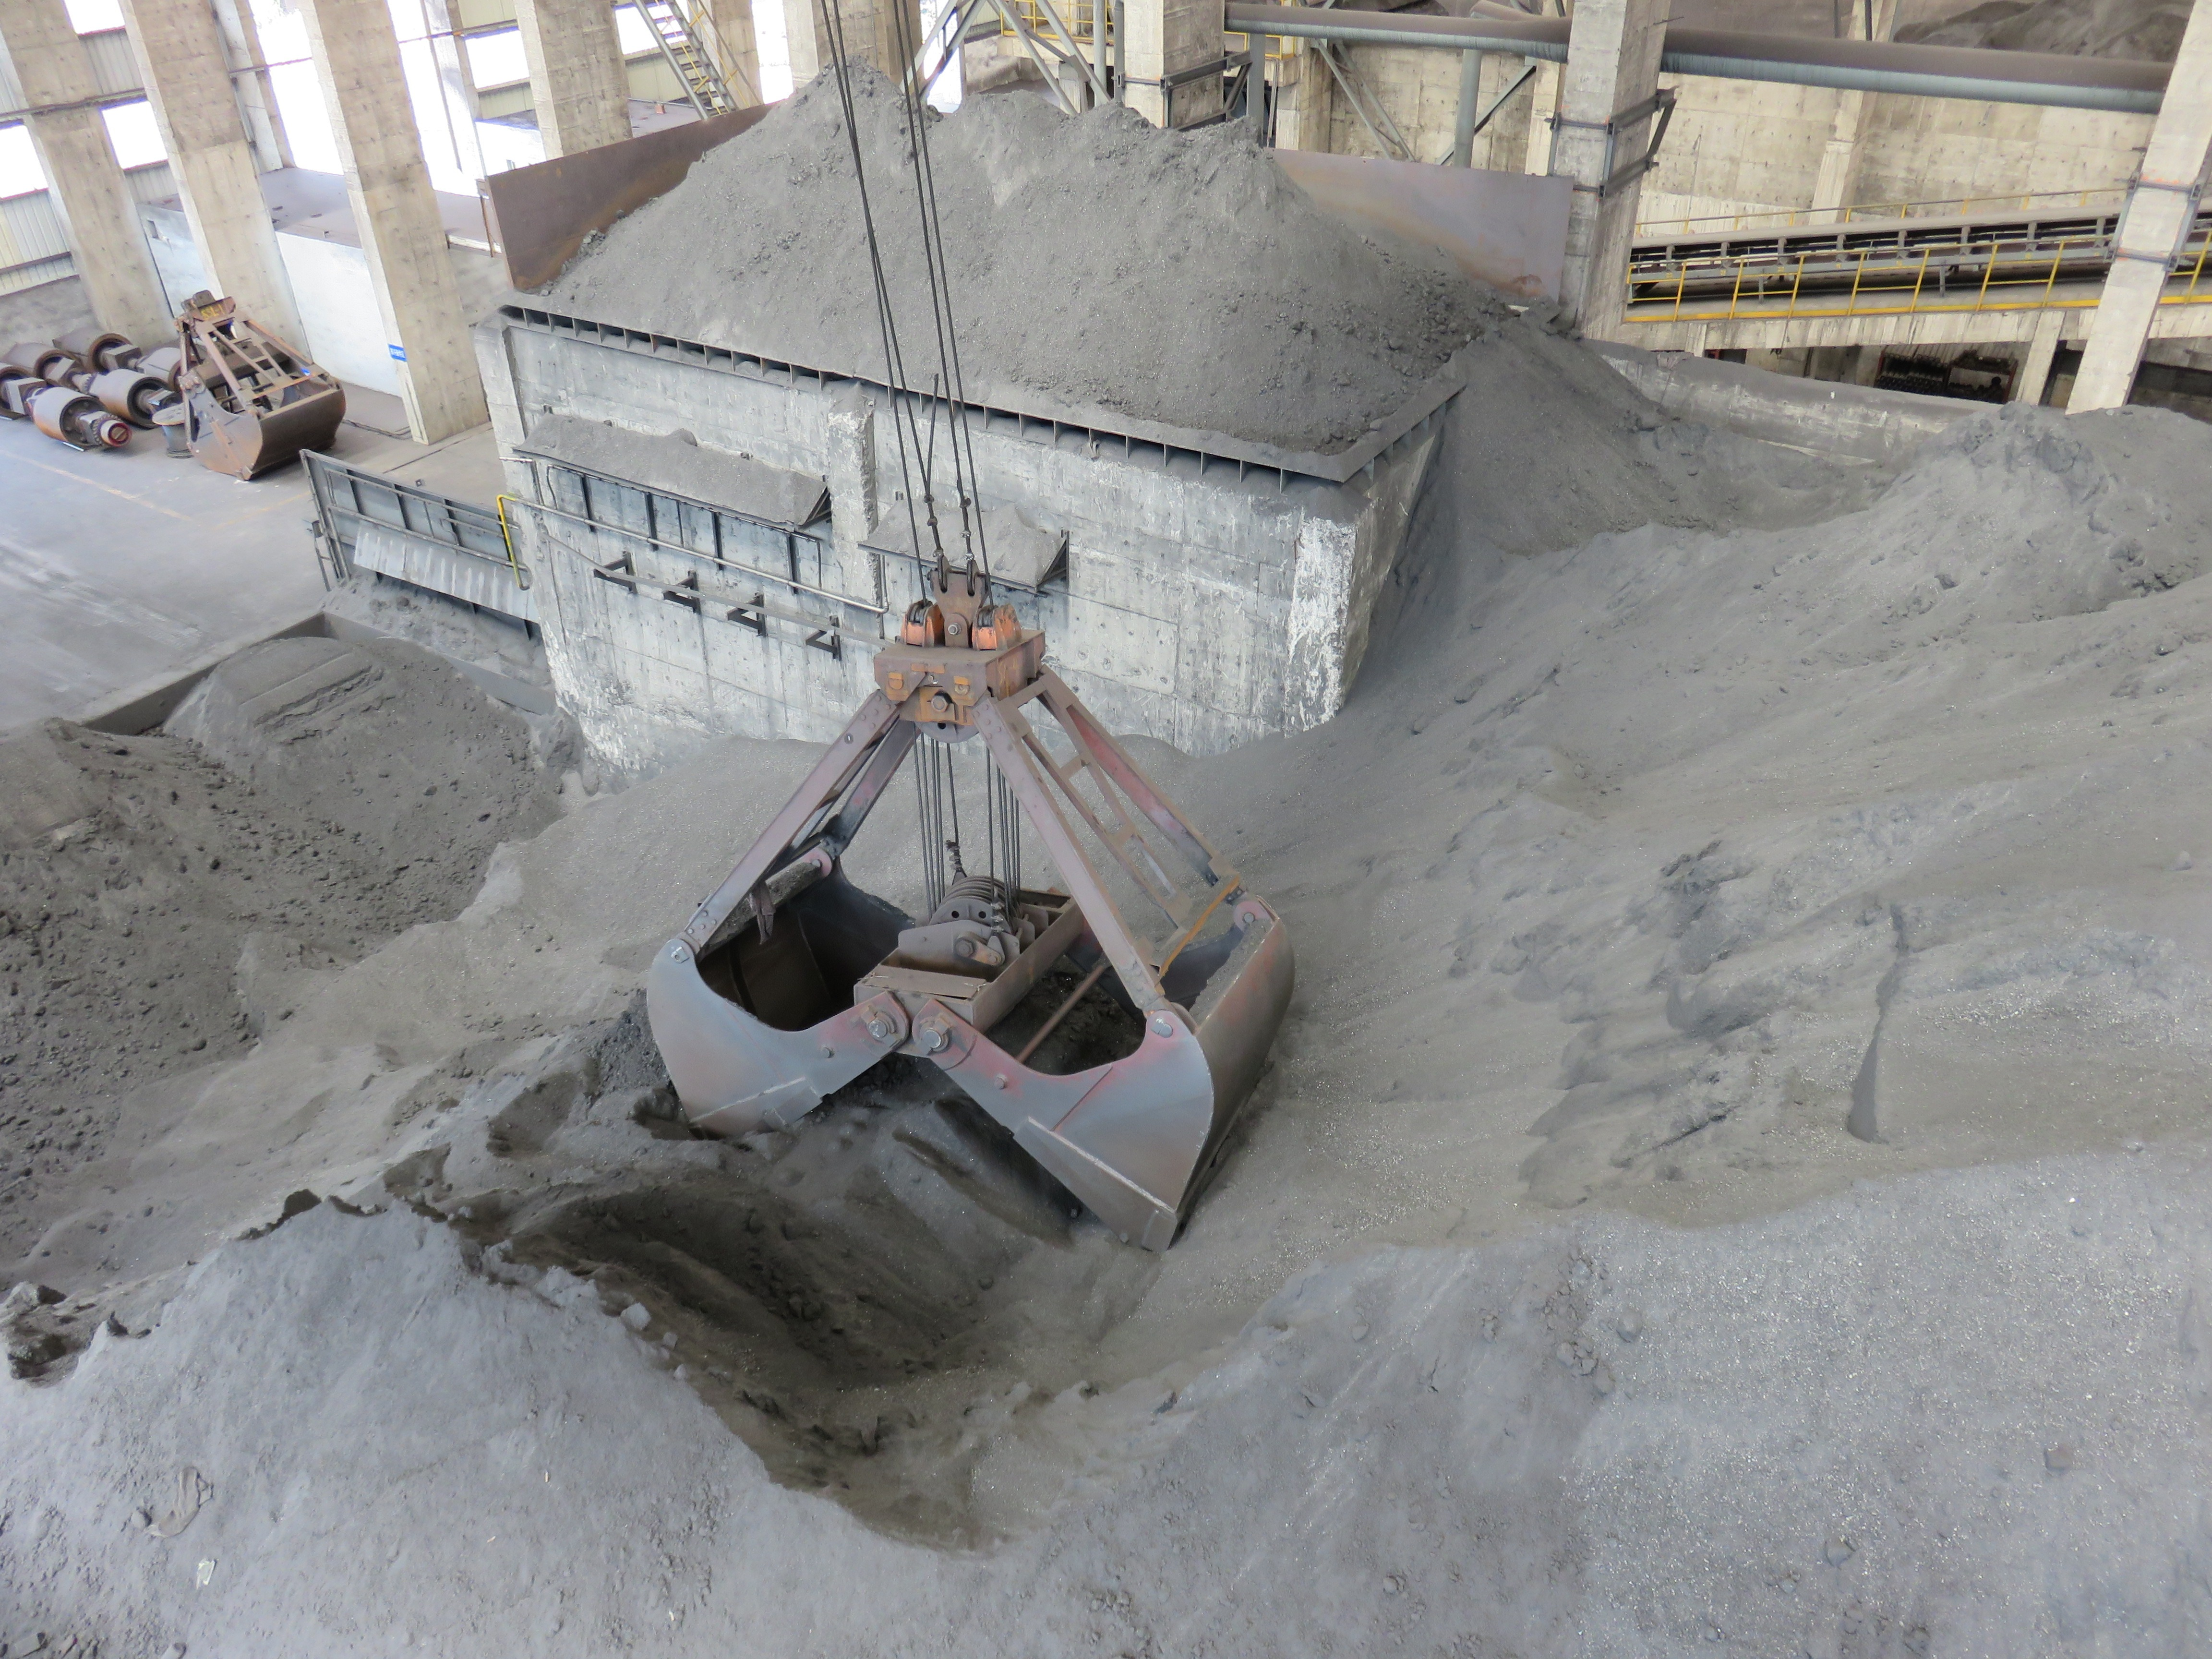grab: (625, 552, 1313, 1262), (158, 272, 352, 483)
